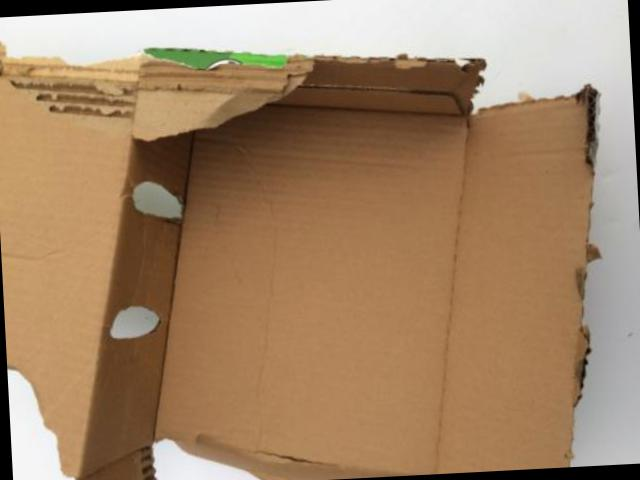cardboard paper: (0, 47, 591, 480)
